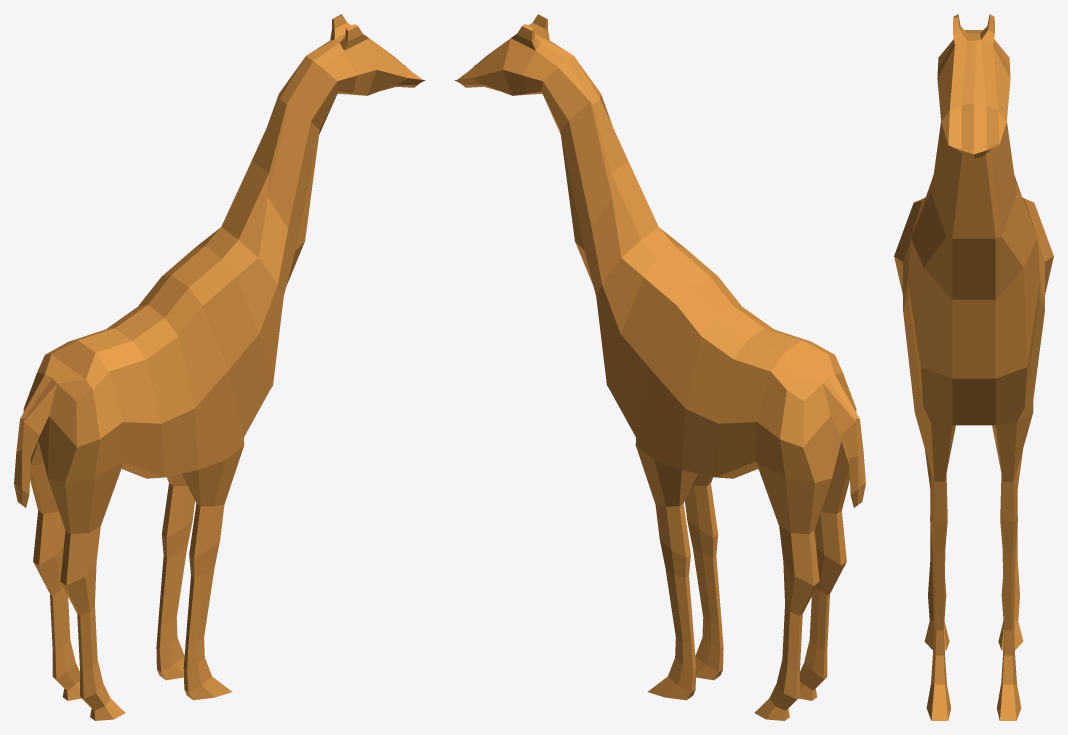
The model's file is kirahvi.fbx.
3 views of the same model, side by side, from view 1: azimuth 30°, elevation 25°; view 2: azimuth 150°, elevation 25°; view 3: azimuth 270°, elevation 25° (orthographic). The views are drawn at different scales.
Visible parts, largest first — view 1: Plane; view 2: Plane; view 3: Plane.
Boxes of the visible parts, box(x1,y1,x2,y2) form: Plane: box(14, 14, 425, 720); Plane: box(454, 14, 865, 720); Plane: box(894, 14, 1053, 720).
Bounding box in the file's own units: 245 × 367 × 67.67.
